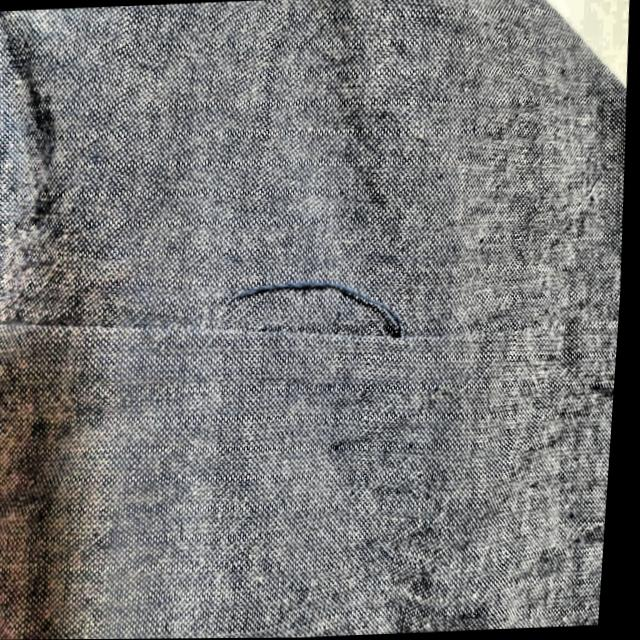Stitch: (217, 230, 420, 379)
